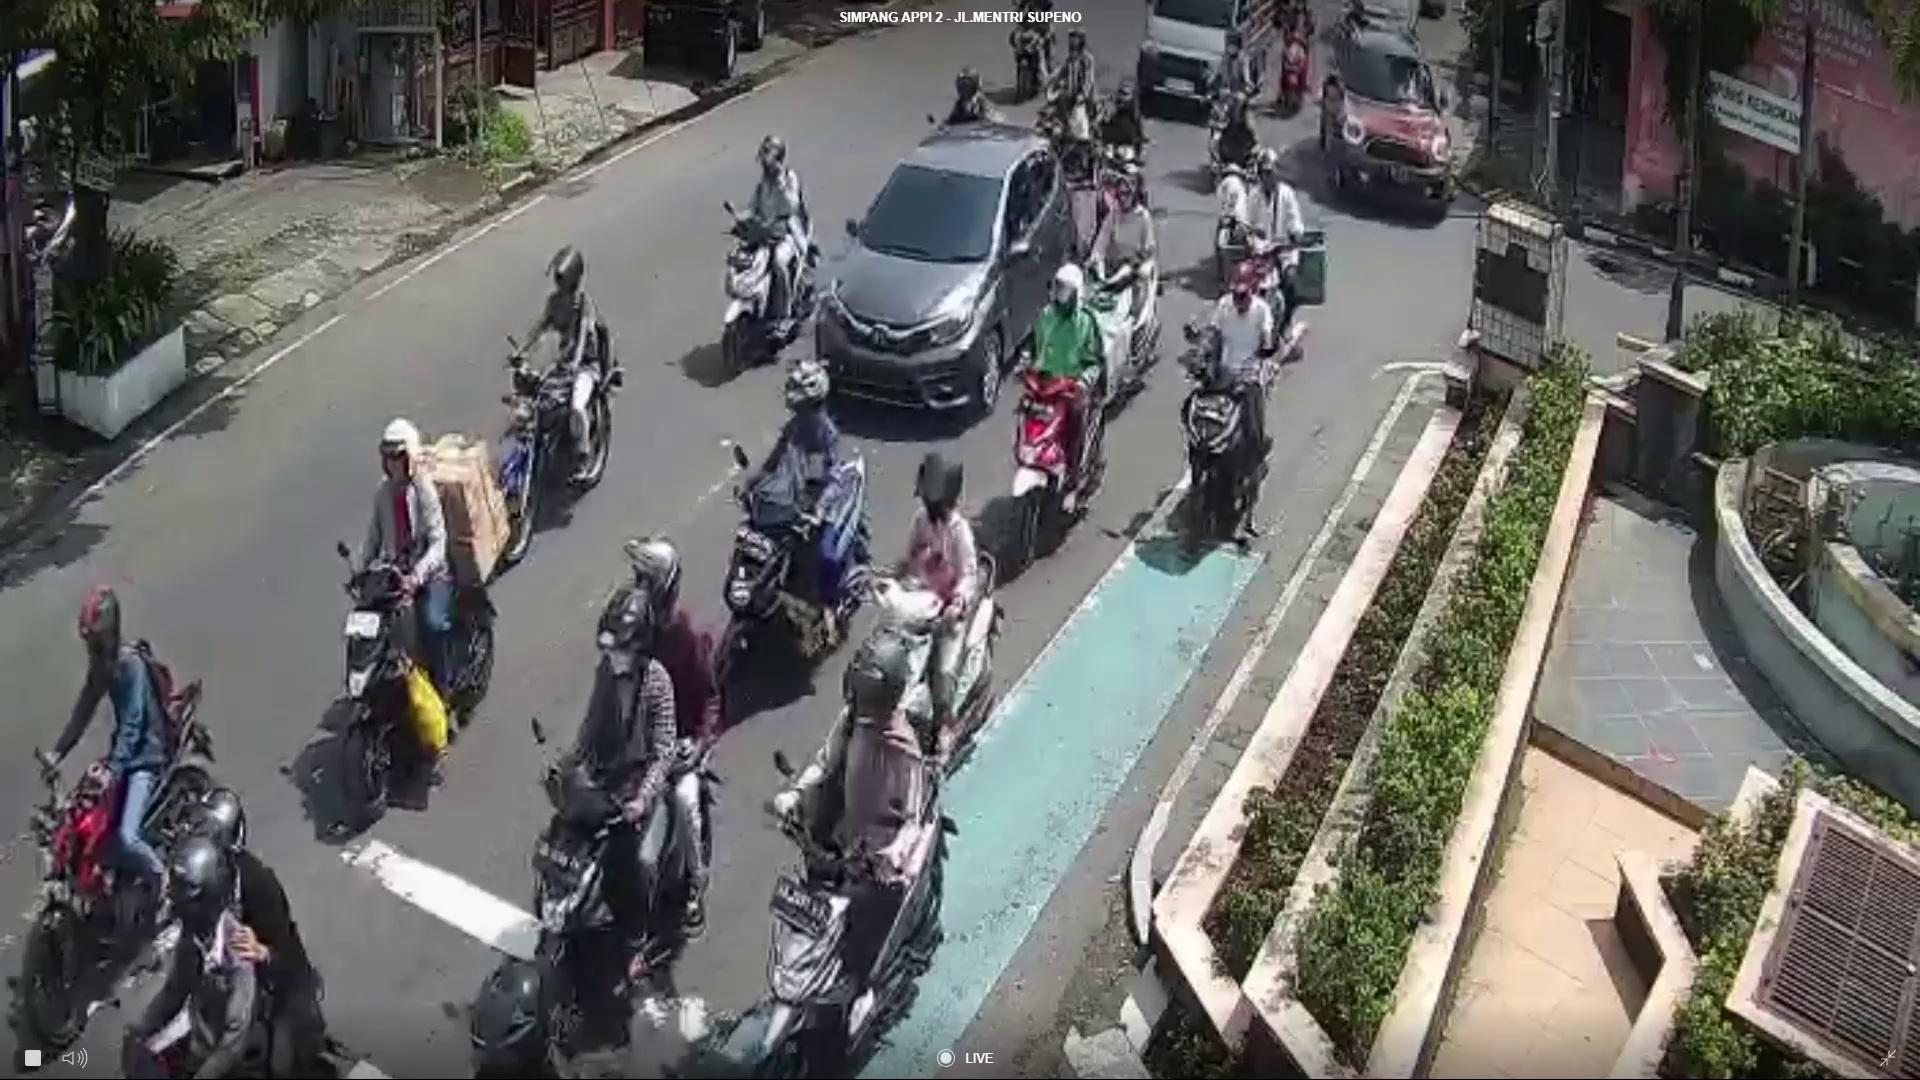car: (812, 120, 1091, 422), (1323, 8, 1462, 228), (1134, 0, 1280, 116)
motorbike: (9, 676, 225, 1043), (524, 758, 724, 1050), (328, 537, 517, 819), (754, 803, 955, 1063), (717, 454, 870, 712), (848, 545, 1007, 771), (498, 328, 612, 564), (1013, 359, 1112, 575), (1180, 343, 1274, 556), (717, 198, 824, 377), (1083, 255, 1167, 396)
